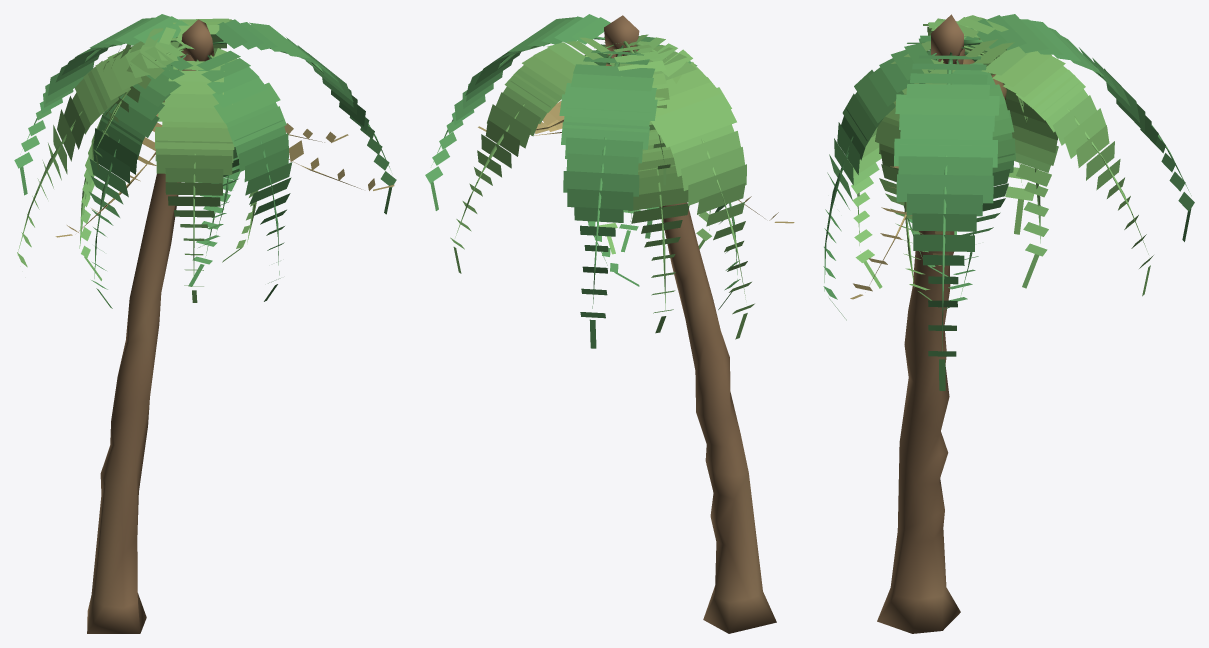
The model's file is palm_a_far.5f6958d6.glb.
The picture shows the model from 3 angles, left to right: view 1: azimuth 30°, elevation 25°; view 2: azimuth 150°, elevation 25°; view 3: azimuth 270°, elevation 25°; orthographic projection. The views are drawn at different scales.
Visible parts, largest first — view 1: palm_a; view 2: palm_a; view 3: palm_a.
Boxes of the visible parts, x1,y1,x2,y2 form: palm_a: (14,14,396,633); palm_a: (425,14,794,633); palm_a: (823,14,1194,633).
Size of the model in its own units: 5.71 by 9 by 4.61.
